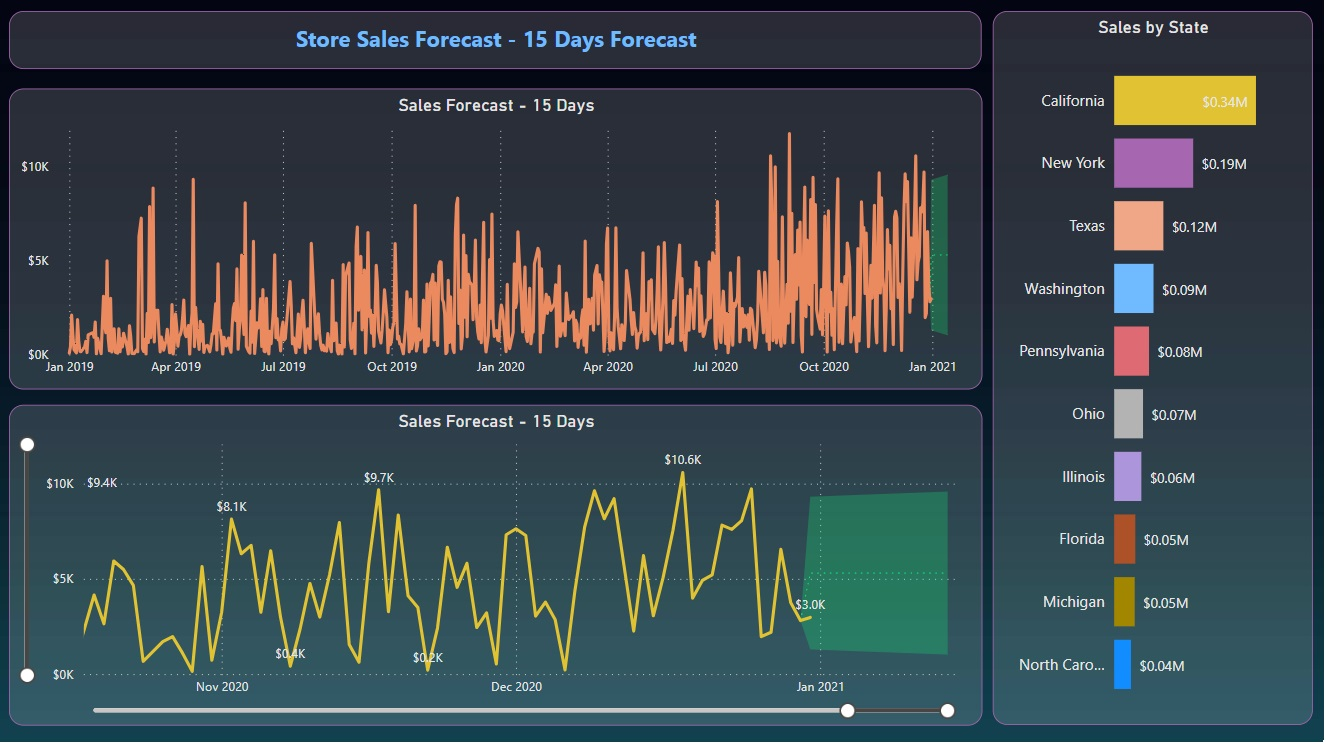

The dashboard page shown, as its layout file describes it:
{"tool":"powerbi","page":{"name":"Page 2","canvas":[1280,720],"ordinal":1},"visuals":[{"type":"lineChart","title":"Sales Forecast - 15 Days","fields":{"Y":["Sum(SuperStore_Sales_Dataset.Sales)"],"Category":["SuperStore_Sales_Dataset.Order Date"]},"box":[9.6,89.1,939.2,290.7],"z":0},{"type":"lineChart","title":"Sales Forecast - 15 Days","fields":{"Y":["Sum(SuperStore_Sales_Dataset.Sales)"],"Category":["SuperStore_Sales_Dataset.Order Date"]},"box":[9.6,394.9,939.2,309.9],"z":1000},{"type":"textbox","box":[9.5,14.9,938.7,55.6],"z":2000},{"type":"clusteredBarChart","title":"Sales by State","fields":{"Category":["SuperStore_Sales_Dataset.State"],"Y":["Sum(SuperStore_Sales_Dataset.Sales)"]},"box":[959.4,15,308.9,688.6],"z":3000}]}

Visuals, with their boxes in screenshot pixels (x1, y1, x2, y2), scaled from the page's 1280x720 canvas onto the 1326x744 screenshot:
"Sales Forecast - 15 Days" lineChart: {"x1": 10, "y1": 92, "x2": 983, "y2": 392}
"Sales Forecast - 15 Days" lineChart: {"x1": 10, "y1": 408, "x2": 983, "y2": 728}
textbox: {"x1": 10, "y1": 15, "x2": 982, "y2": 73}
"Sales by State" clusteredBarChart: {"x1": 994, "y1": 16, "x2": 1314, "y2": 727}
